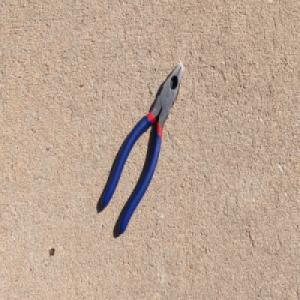Pliers: (99, 60, 185, 239)
